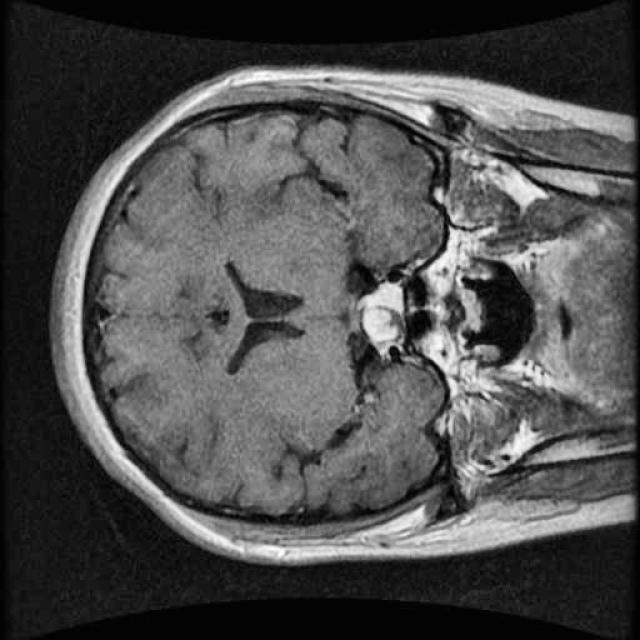Tumor: (349, 270, 421, 371)
